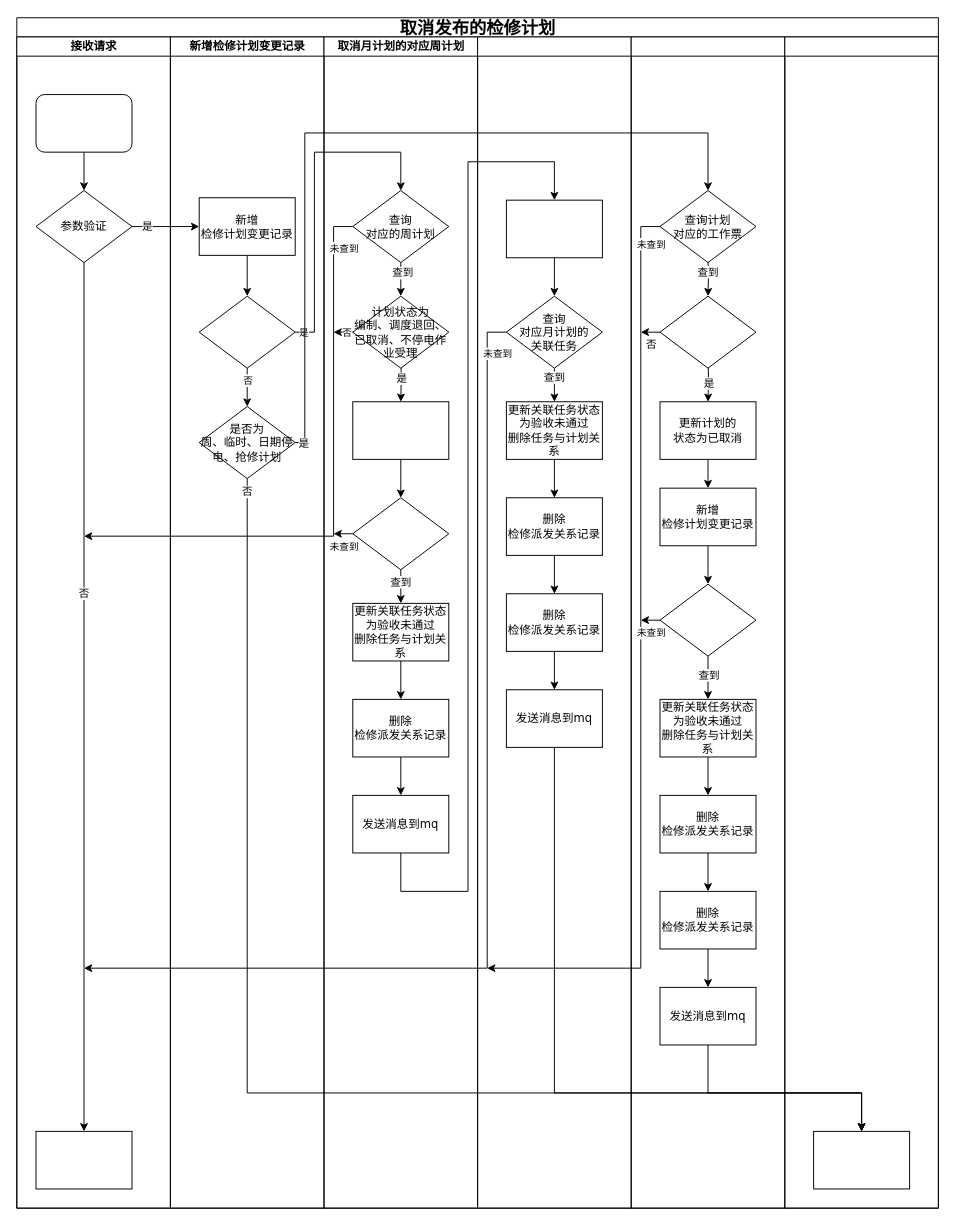
The diagram is 955 pixels wide and 1225 high, and some of its shapes have lost their labels. The shapes that lost their labels are listed below. From the top down, each one's box as (x1, y1, x2, y2) in pixels, then its label:
(35, 94, 132, 152): 开始
(505, 199, 602, 258): 更新 月计划的 状态为已取消
(198, 295, 295, 368): 是否为 月检修计划
(659, 295, 756, 368): 工作票状态 是否为新建
(352, 401, 449, 459): 更新 对应周计划的 状态为已取消
(352, 497, 449, 570): 查询 对应周计划的 关联任务
(477, 36, 631, 1208): 取消月计划
(659, 583, 756, 656): 查询 计划的 关联任务
(630, 36, 785, 1208): 取消周计划
(784, 36, 938, 1208): 返回结果
(35, 1130, 132, 1189): 失败返回
(813, 1130, 910, 1189): 成功返回
